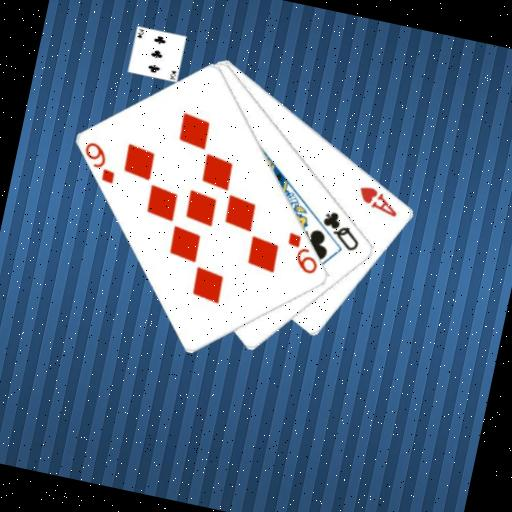9D: (278, 228, 326, 277), (76, 137, 123, 186)
AH: (352, 181, 404, 219)
QC: (315, 206, 367, 255)
